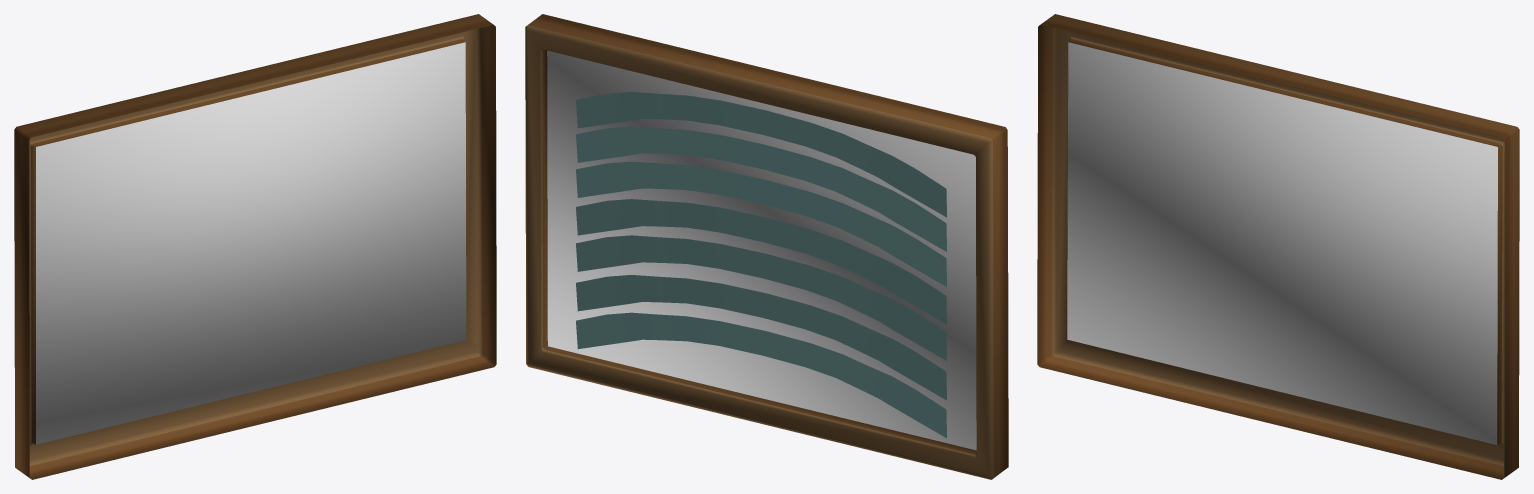
Rendered from Frame line.fbx.
3 renders of one model, left to right at view 1: azimuth 30°, elevation 25°; view 2: azimuth 150°, elevation 25°; view 3: azimuth 330°, elevation 25°, orthographic.
Parts seen in each view (by area): view 1: Frame line; view 2: Frame line; view 3: Frame line.
Part boxes in pixels (<box>): Frame line: <box>14,14,496,479</box>; Frame line: <box>525,14,1008,479</box>; Frame line: <box>1037,14,1519,479</box>.
Bounding box in the file's own units: 206 × 144 × 12.96.
